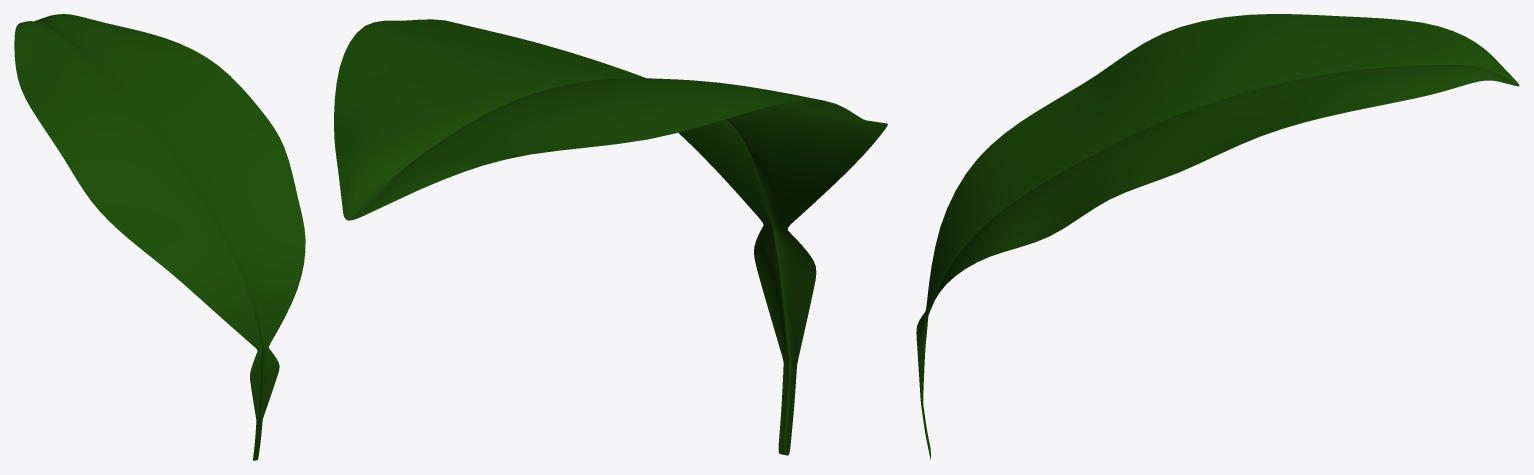
File: green-leaf2.glb
3 renders of one model, left to right at view 1: azimuth 30°, elevation 25°; view 2: azimuth 150°, elevation 25°; view 3: azimuth 270°, elevation 25°, orthographic. The views are drawn at different scales.
Parts seen in each view (by area): view 1: Object_3; view 2: Object_3; view 3: Object_3.
Part boxes in pixels (x1,y1,x2,y2): Object_3: (14,14,305,460); Object_3: (334,19,887,455); Object_3: (916,14,1519,459).
Bounding box in the file's own units: 0.3272 × 0.4596 × 0.6277.
